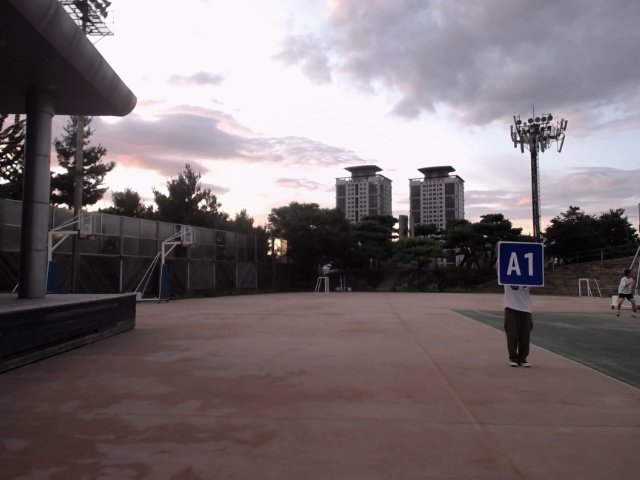delivery_a1: (499, 242, 544, 286)
